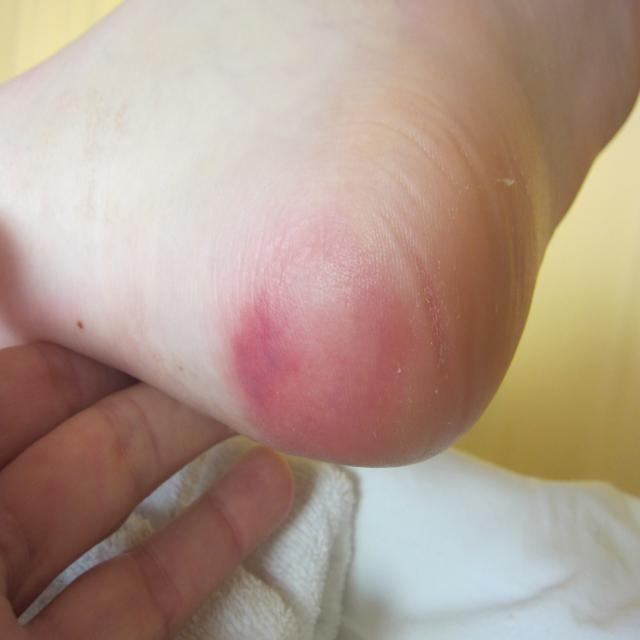stage-1: (227, 227, 410, 468)
